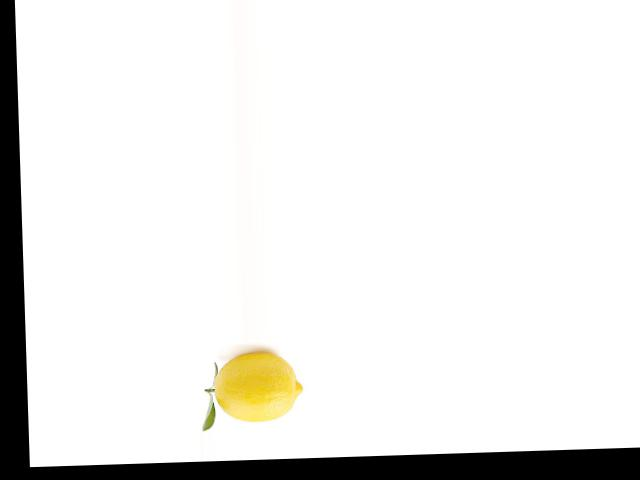lemon: (210, 347, 309, 424)
